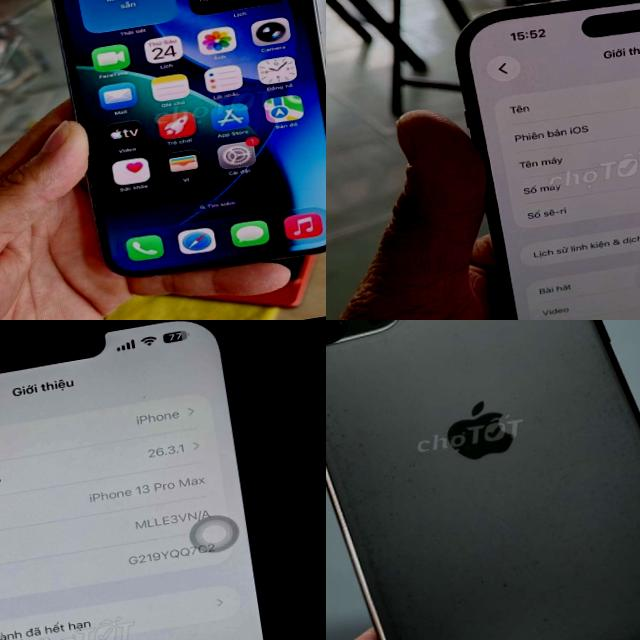gen_11: (326, 320, 640, 640)
gen_12_13: (0, 320, 321, 640)
gen_14: (41, 0, 326, 292), (442, 0, 640, 320)
